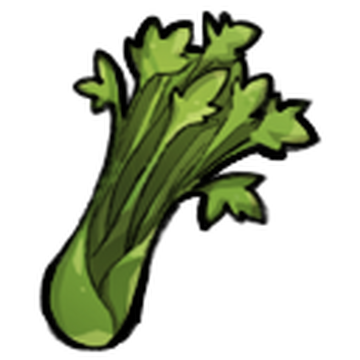Seledri: (40, 34, 305, 356)
